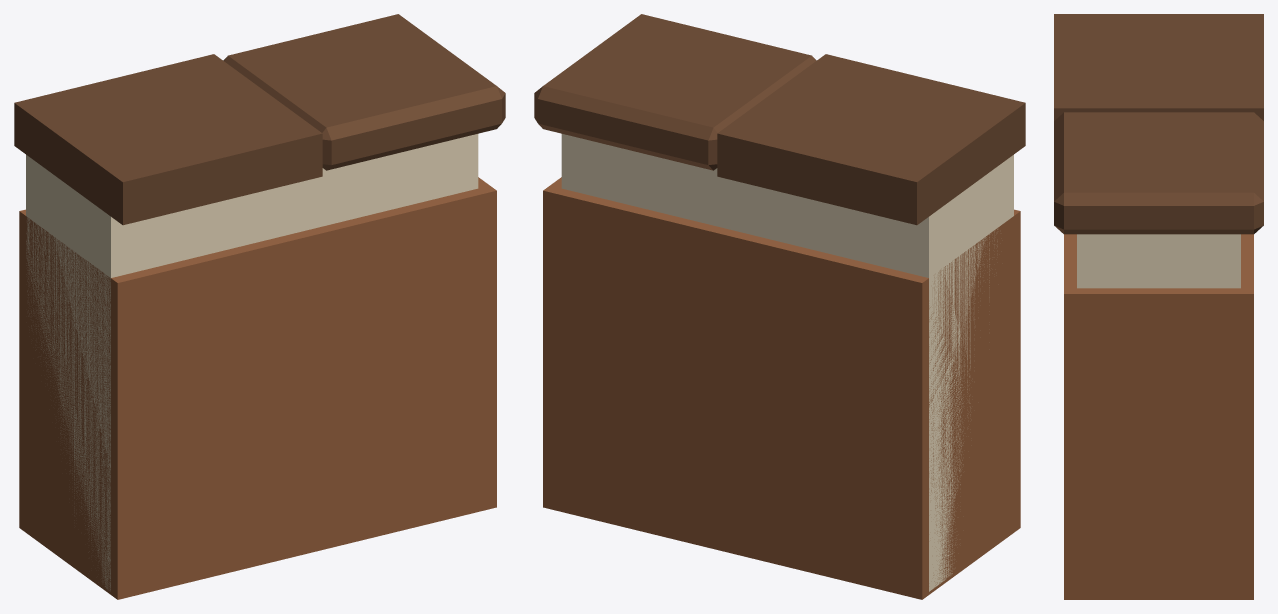
Rendered from wall_low_end.glb.
The picture shows the model from 3 angles, left to right: view 1: azimuth 30°, elevation 25°; view 2: azimuth 150°, elevation 25°; view 3: azimuth 270°, elevation 25°; orthographic projection. The views are drawn at different scales.
Parts seen in each view (by area): view 1: wall_low_end; view 2: wall_low_end; view 3: wall_low_end.
Boxes of the visible parts, left/top/right/bottom form: wall_low_end: left=14, top=14, right=505, bottom=599; wall_low_end: left=534, top=14, right=1025, bottom=599; wall_low_end: left=1054, top=14, right=1263, bottom=599.
Size of the model in its own units: 0.66 by 0.685 by 0.32.
